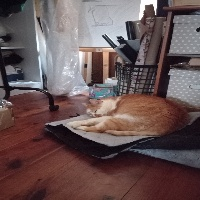asleep: (68, 94, 189, 136)
